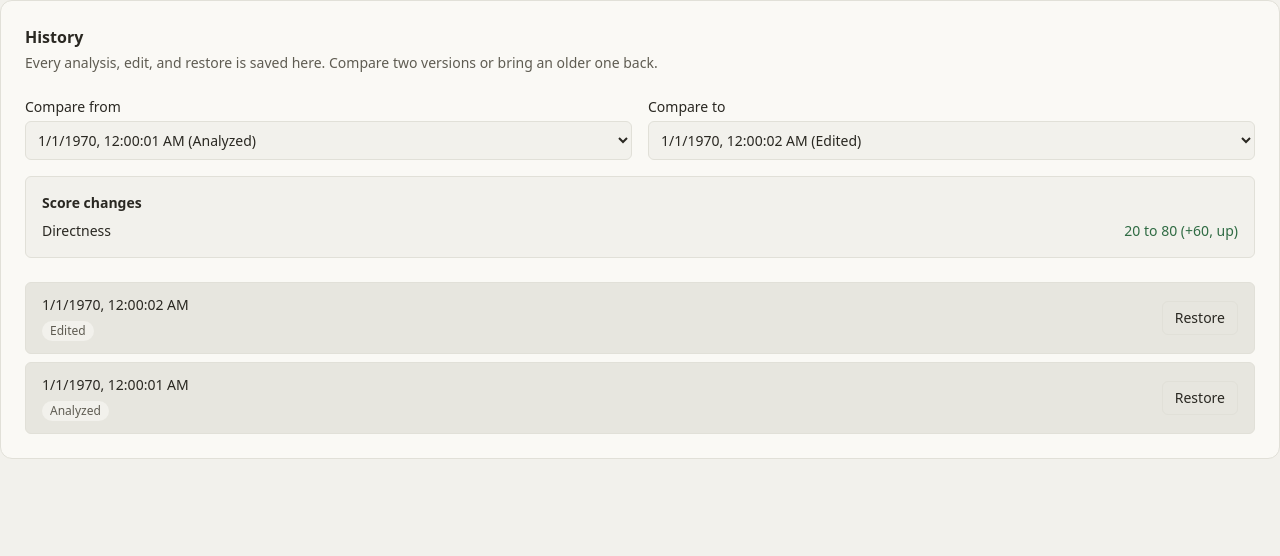
Test case: VersionHistoryPanel › marks the newly restored version as current in the list
The image size is (1280, 556).
Expected: the text "Current" is not shown
Click the button "Restore" in the row of "1/1/1970, 12:00:01 AM" at (1200,398), box x1=1162 y1=381 x2=1238 y2=415
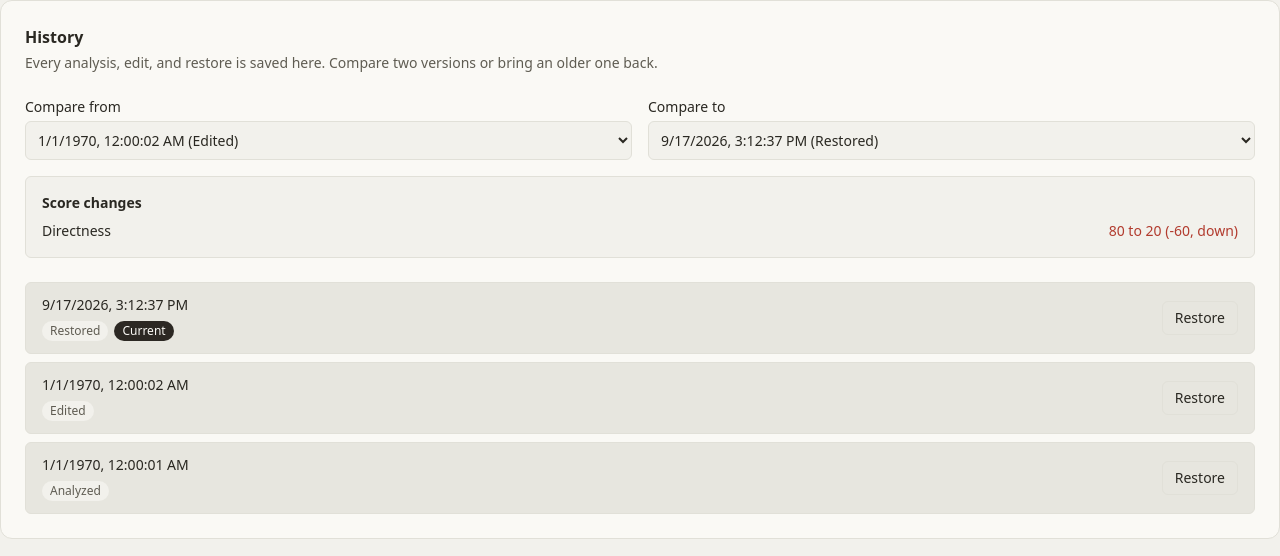
Expected: the text "Current" is shown, x1=114 y1=321 x2=174 y2=341
